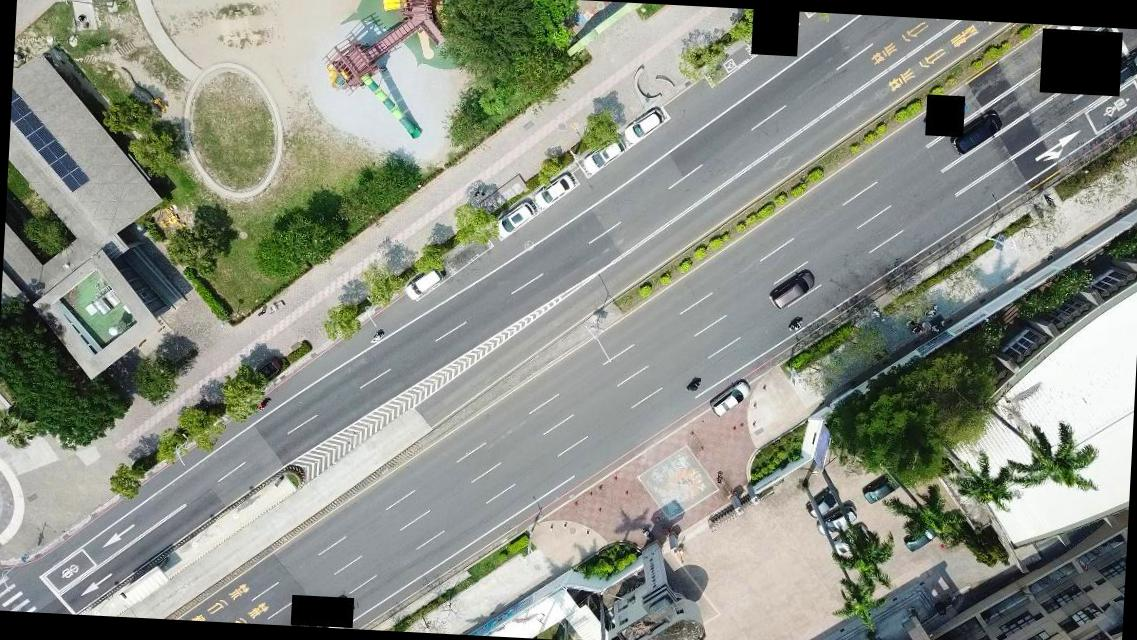vehicle: (950, 108, 1002, 156), (769, 268, 817, 310), (707, 374, 749, 420), (534, 167, 578, 210), (496, 194, 534, 238), (406, 264, 446, 304), (580, 136, 622, 174), (862, 468, 906, 503), (624, 104, 664, 142), (830, 523, 871, 559), (1103, 45, 1136, 89), (816, 503, 857, 538), (804, 486, 843, 522), (900, 524, 938, 554)
